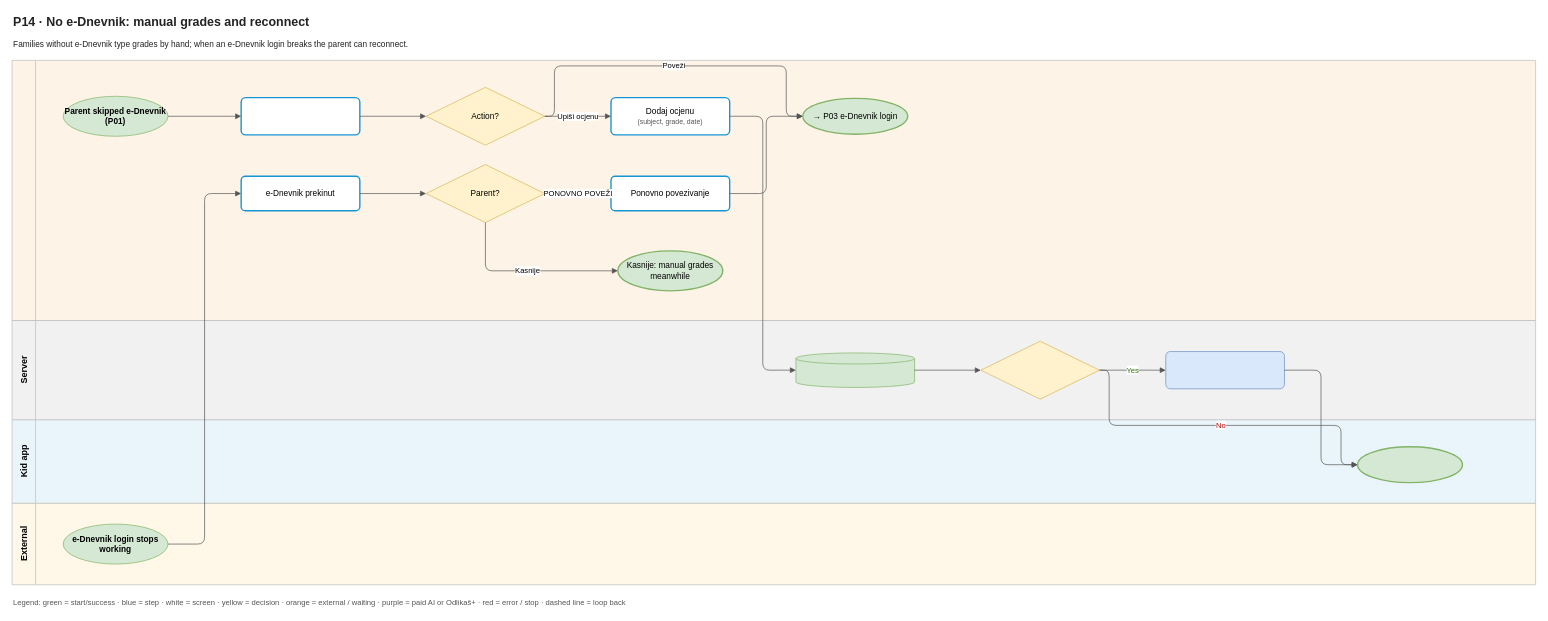
Some shapes in this 1548 by 621 pixel diagram are drawn without their labels. The shapes that lost their labels are listed below. From the top down, each one's box as (x1, y1, x2, y2) in pixels, then its label:
(240, 97, 360, 135): Početna (bez e-Dnevnika) nudge: Poveži
(11, 60, 1536, 321): Parent app
(795, 352, 915, 387): grades source = manual
(980, 341, 1100, 399): Grade 1–2?
(1165, 351, 1284, 389): Kartice in the next plan (K02)
(1357, 446, 1463, 483): Kid sees it in Ocjene
